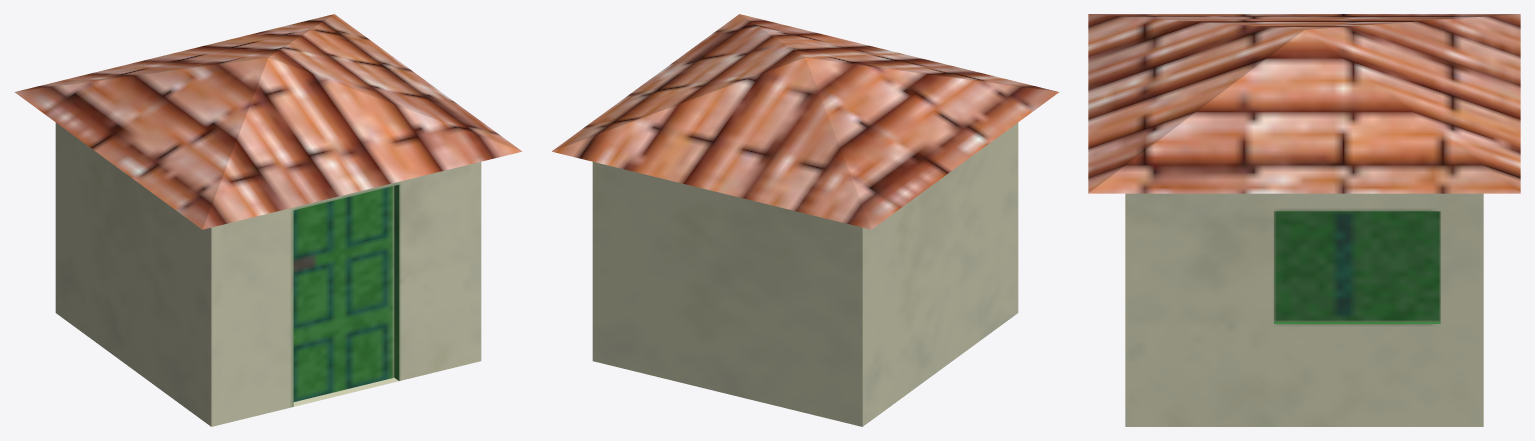
The model's file is Armazem 4.fbx.
3 renders of one model, left to right at view 1: azimuth 30°, elevation 25°; view 2: azimuth 150°, elevation 25°; view 3: azimuth 270°, elevation 25°, orthographic. The views are drawn at different scales.
Visible parts, largest first — view 1: Armazem; view 2: Armazem; view 3: Armazem.
Boxes of the visible parts, box(x1,y1,x2,y2) form: Armazem: box(14, 14, 521, 426); Armazem: box(552, 14, 1059, 426); Armazem: box(1088, 14, 1520, 426).
Size of the model in its own units: 1423 by 1189 by 1448.
